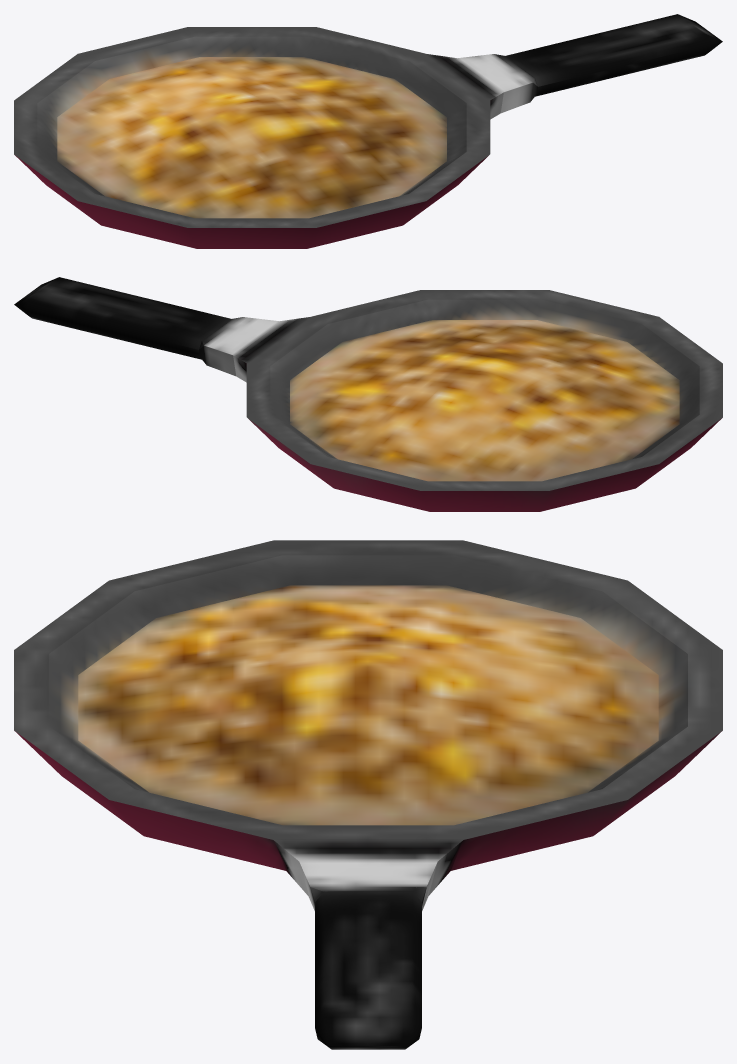
The model's file is FryingPanRice.fbx.
3 renders of one model, top to bottom at view 1: azimuth 30°, elevation 25°; view 2: azimuth 150°, elevation 25°; view 3: azimuth 270°, elevation 25°, orthographic. The views are drawn at different scales.
Visible parts, largest first — view 1: StirFry; view 2: StirFry; view 3: StirFry.
Part boxes in pixels (left/top/right/bottom): StirFry: left=14, top=14, right=722, bottom=248; StirFry: left=14, top=277, right=722, bottom=511; StirFry: left=14, top=540, right=722, bottom=1049.
Size of the model in its own units: 70.96 by 6.77 by 44.11.
